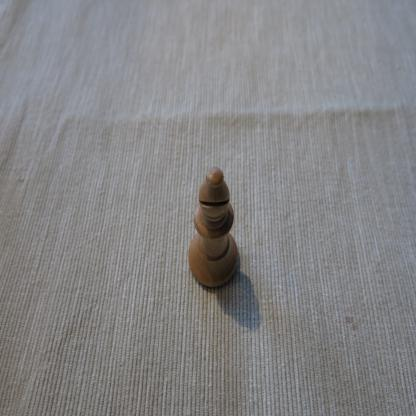white-bishop: (187, 166, 240, 290)
